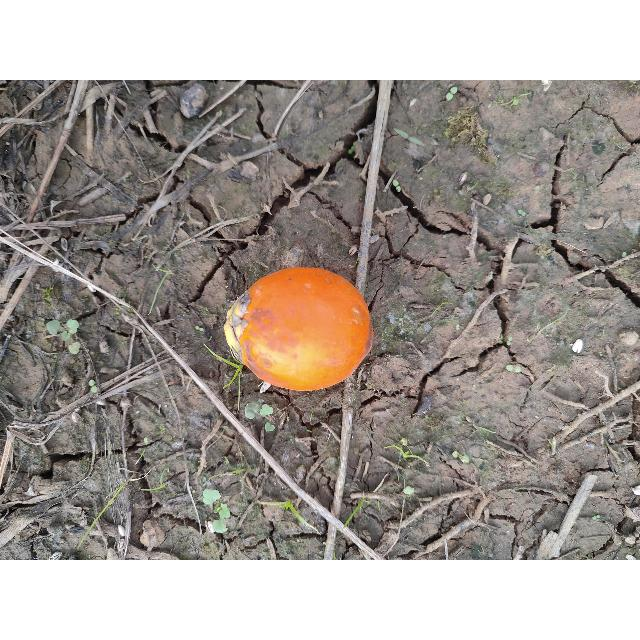good: (229, 268, 374, 394)
